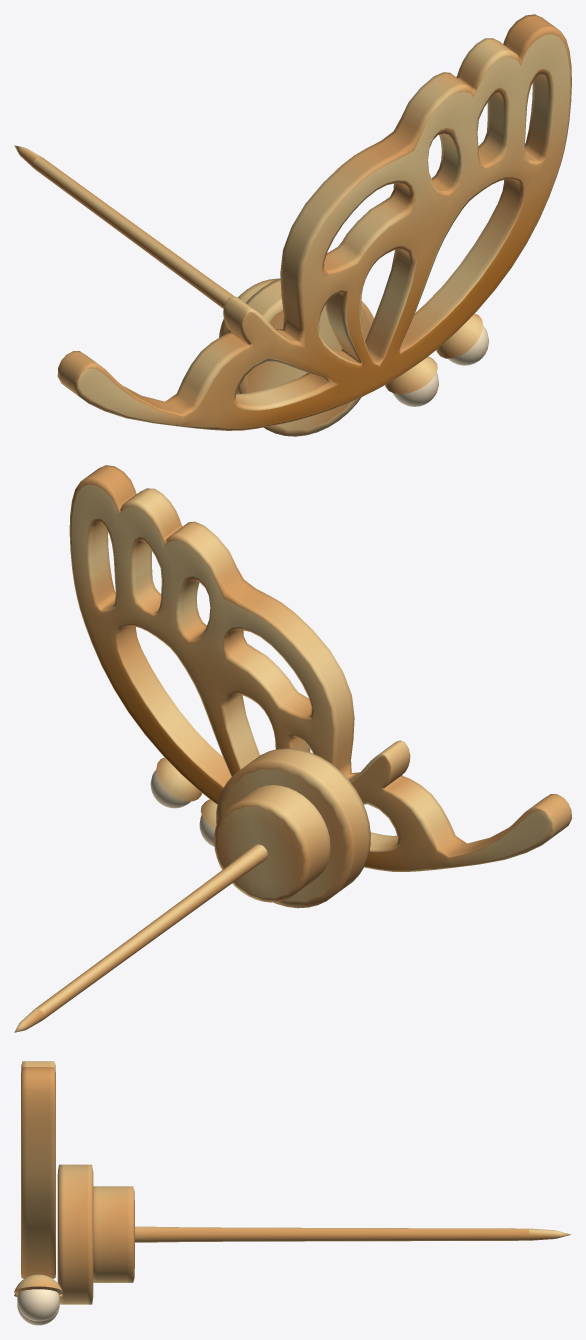
The model's file is piasu1.fbx.
The picture shows the model from 3 angles, top to bottom: view 1: azimuth 30°, elevation 25°; view 2: azimuth 150°, elevation 25°; view 3: azimuth 270°, elevation 25°; orthographic projection. The views are drawn at different scales.
Visible parts, largest first — view 1: pSphere12; view 2: pSphere12; view 3: pSphere12.
Boxes of the visible parts, x1,y1,x2,y2 form: pSphere12: [14, 14, 571, 436]; pSphere12: [14, 465, 571, 1032]; pSphere12: [14, 1061, 571, 1325].
Size of the model in its own units: 54.8 by 38.97 by 61.57.
2 materials, 1 textured.
